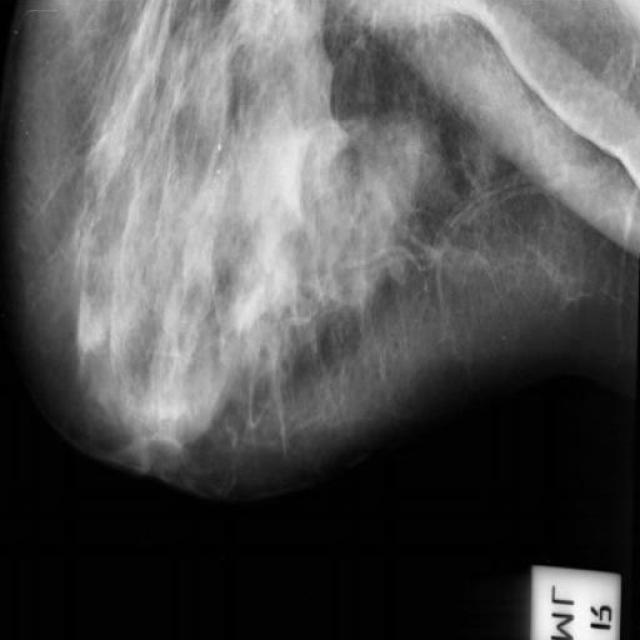cancer: (219, 278, 266, 356)
